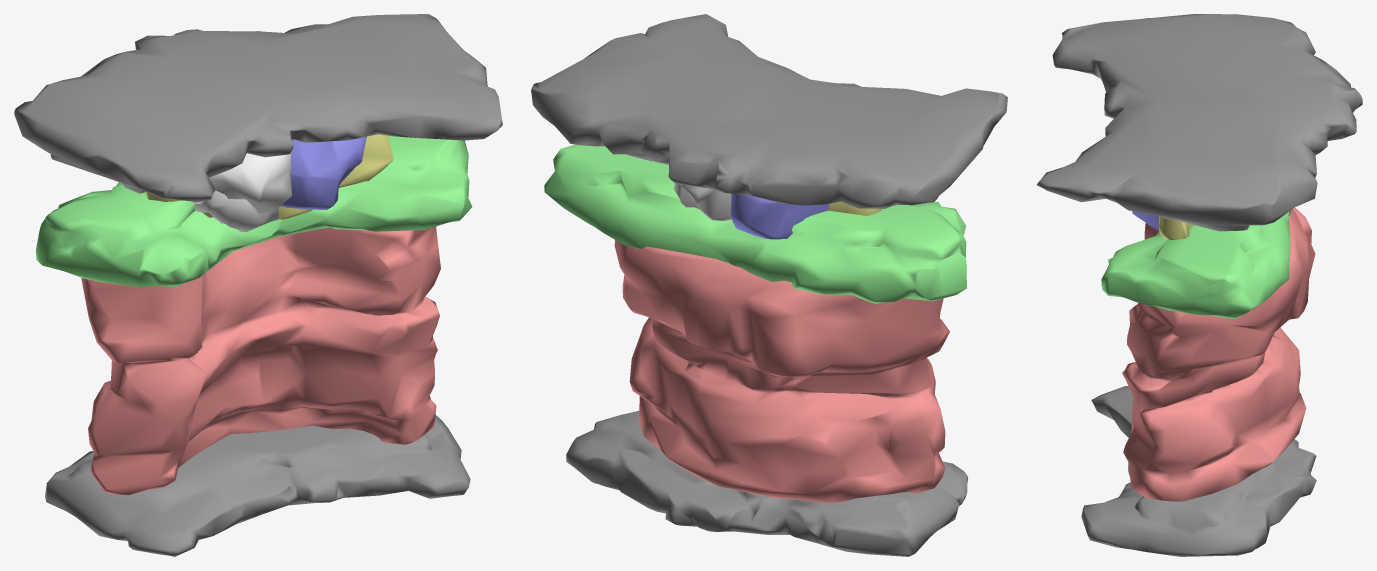
File: SM_MERGEDCliff21.gltf
The picture shows the model from 3 angles, left to right: view 1: azimuth 30°, elevation 25°; view 2: azimuth 150°, elevation 25°; view 3: azimuth 270°, elevation 25°; orthographic projection. The views are drawn at different scales.
Parts seen in each view (by area): view 1: SM_MERGEDCliff21; view 2: SM_MERGEDCliff21; view 3: SM_MERGEDCliff21.
Part boxes in pixels (bbox=[...]): SM_MERGEDCliff21: bbox=[14, 14, 502, 556]; SM_MERGEDCliff21: bbox=[531, 14, 1007, 556]; SM_MERGEDCliff21: bbox=[1036, 14, 1362, 556].
Size of the model in its own units: 22.12 by 21.06 by 16.
